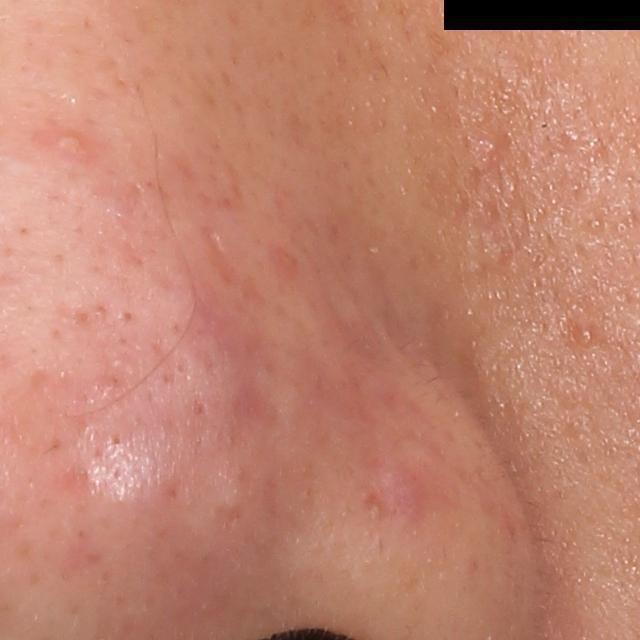comedo: (578, 323, 598, 348)
pustule: (50, 130, 89, 160)
